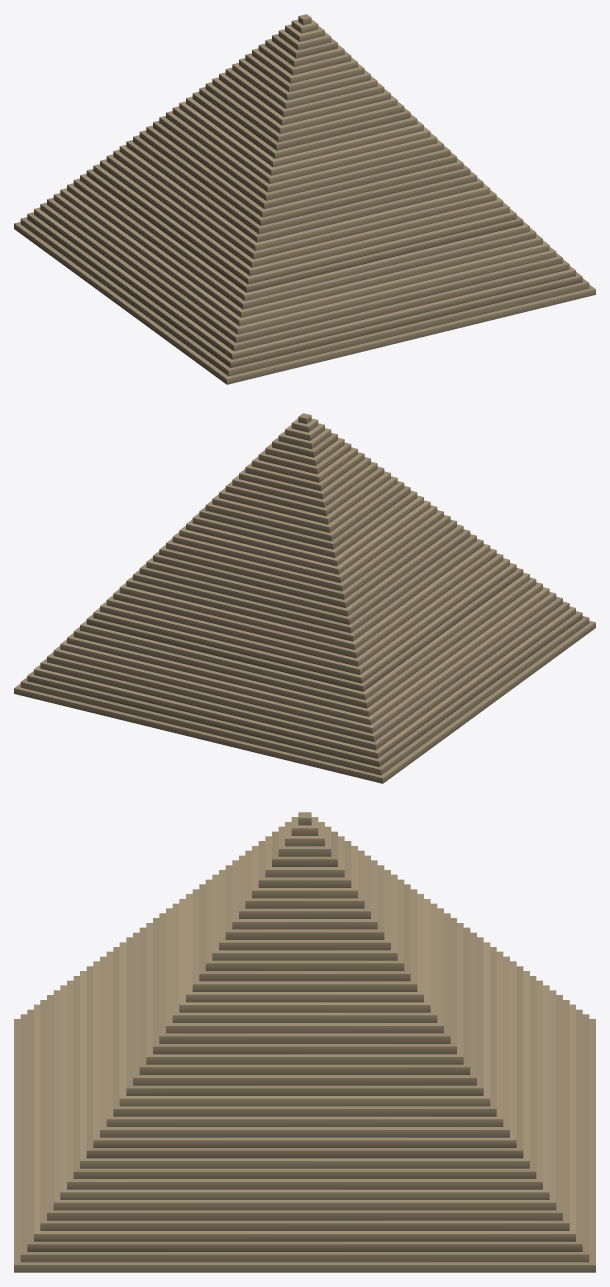
Rendered from chephren.glb.
3 renders of one model, top to bottom at view 1: azimuth 30°, elevation 25°; view 2: azimuth 150°, elevation 25°; view 3: azimuth 270°, elevation 25°, orthographic. The views are drawn at different scales.
Visible parts, largest first — view 1: lack; view 2: lack; view 3: lack.
Boxes of the visible parts, x1,y1,x2,y2 form: lack: (14, 14, 595, 384); lack: (14, 413, 595, 783); lack: (14, 812, 595, 1272).
Bounding box in the file's own units: 215 × 136 × 215.
